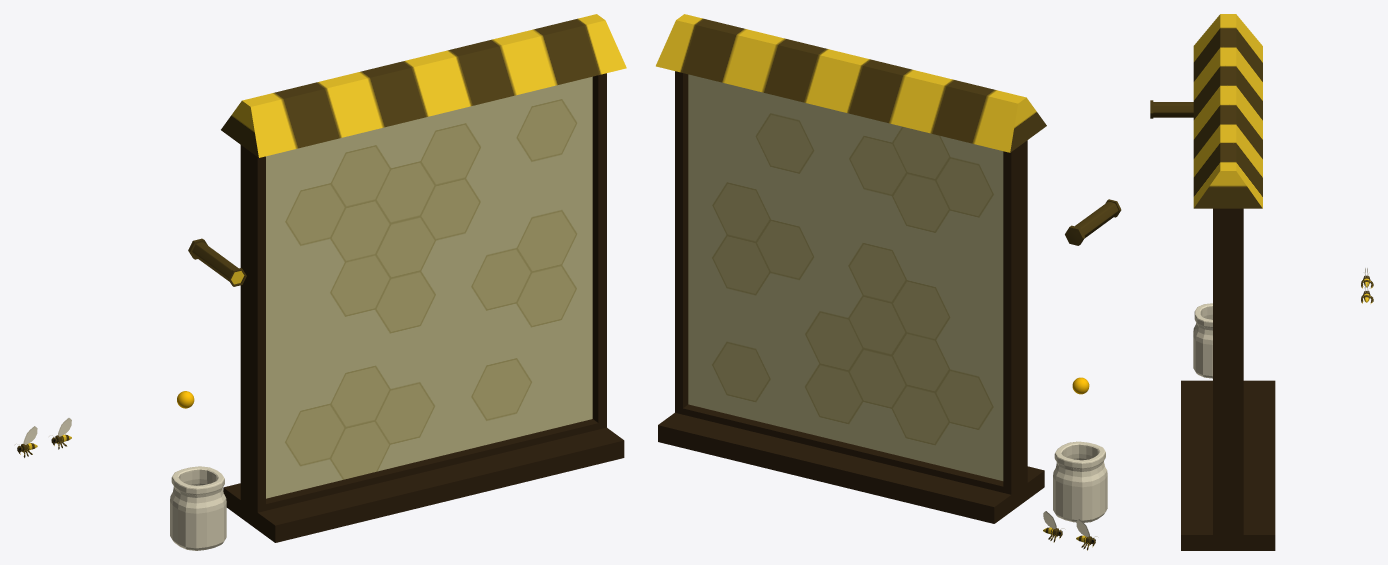
The model's file is Pachinko.fbx.
The picture shows the model from 3 angles, left to right: view 1: azimuth 30°, elevation 25°; view 2: azimuth 150°, elevation 25°; view 3: azimuth 270°, elevation 25°; orthographic projection. The views are drawn at different scales.
Visible parts, largest first — view 1: Backboard, Jar, Peg; view 2: Backboard, Jar, Peg; view 3: Backboard, Jar, Peg.
Boxes of the visible parts, x1,y1,x2,y2 form: Backboard: [221, 14, 626, 542]; Jar: [170, 466, 226, 550]; Peg: [188, 238, 246, 286]; Backboard: [656, 14, 1046, 523]; Jar: [1053, 441, 1107, 522]; Peg: [1065, 199, 1121, 245]; Backboard: [1181, 14, 1275, 550]; Jar: [1193, 303, 1212, 378]; Peg: [1150, 100, 1193, 118].
Bounding box in the file's own units: 29.53 × 23.04 × 12.23.
1 material, 1 textured.
